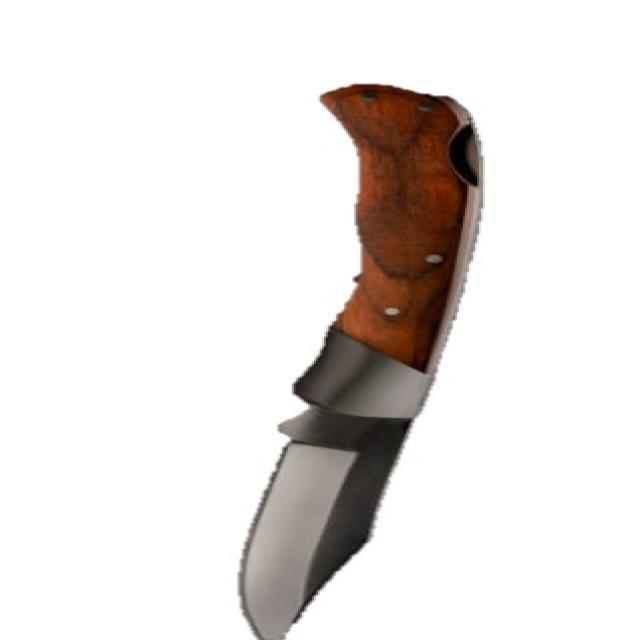knife: (224, 67, 504, 640)
